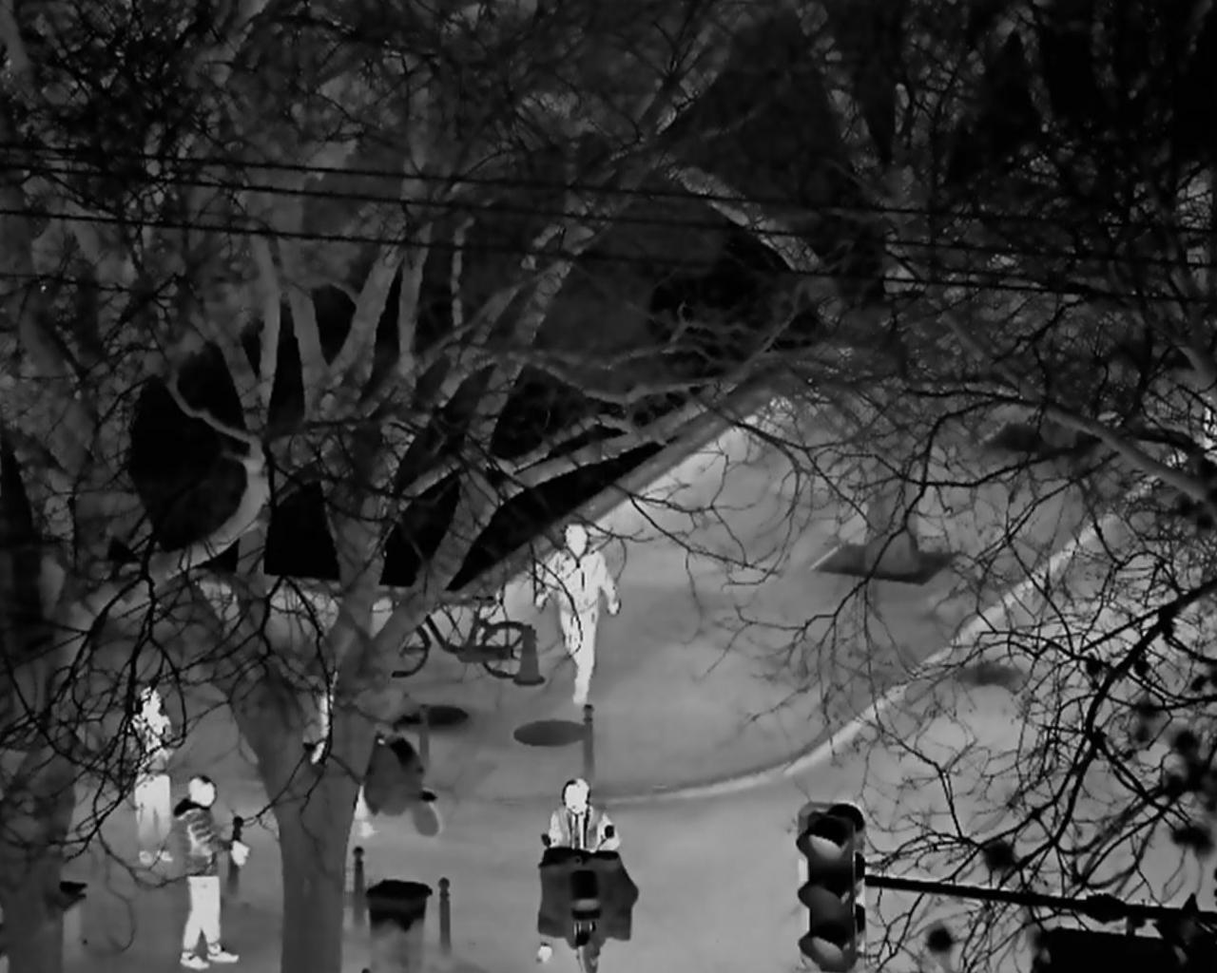person: (534, 519, 620, 705), (177, 773, 250, 972), (126, 686, 176, 864), (548, 776, 620, 854)
